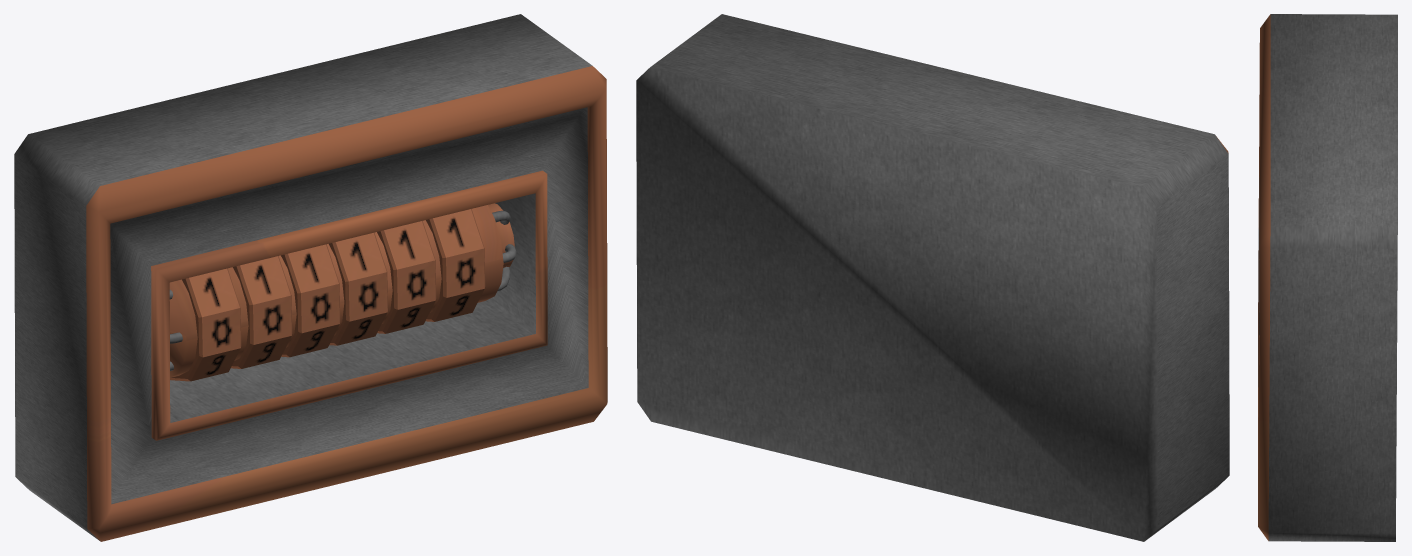
The model's file is 6 ziffern schloss.fbx.
The picture shows the model from 3 angles, left to right: view 1: azimuth 30°, elevation 25°; view 2: azimuth 150°, elevation 25°; view 3: azimuth 270°, elevation 25°; orthographic projection. The views are drawn at different scales.
Parts seen in each view (by area): view 1: LE_Lock, Cylinder.001, Cylinder.002, Cylinder.006, Cylinder.005, Cylinder.004, Cylinder.003; view 2: LE_Lock; view 3: LE_Lock.
Part boxes in pixels (<box>): LE_Lock: <box>14,14,607,541</box>; Cylinder.001: <box>170,268,241,381</box>; Cylinder.002: <box>231,256,292,368</box>; Cylinder.006: <box>425,209,485,321</box>; Cylinder.005: <box>377,221,436,333</box>; Cylinder.004: <box>329,232,387,345</box>; Cylinder.003: <box>281,244,340,357</box>; LE_Lock: <box>636,14,1229,541</box>; LE_Lock: <box>1258,14,1397,541</box>.
Bounding box in the file's own units: 13.45 × 8.79 × 3.53.
